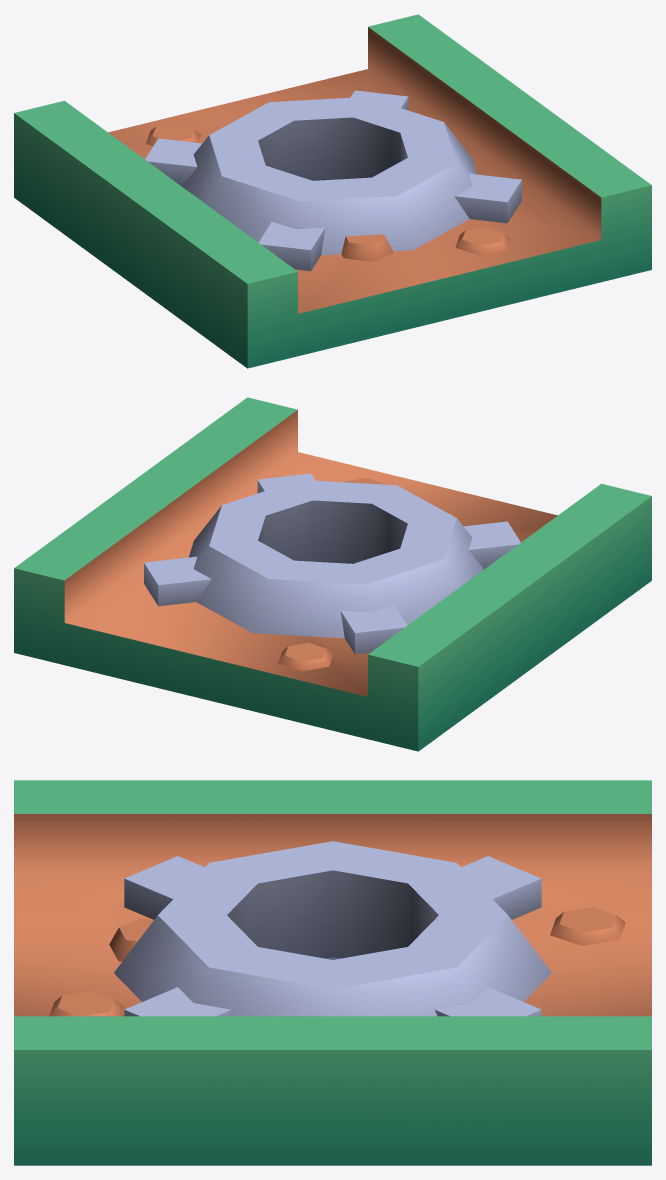
Rendered from kenney-tower-defense-tile-spawn-round.glb.
The picture shows the model from 3 angles, top to bottom: view 1: azimuth 30°, elevation 25°; view 2: azimuth 150°, elevation 25°; view 3: azimuth 270°, elevation 25°; orthographic projection. The views are drawn at different scales.
Visible parts, largest first — view 1: tile-spawn-round; view 2: tile-spawn-round; view 3: tile-spawn-round.
Boxes of the visible parts, left/top/right/bottom form: tile-spawn-round: left=14, top=14, right=651, bottom=368; tile-spawn-round: left=14, top=397, right=651, bottom=751; tile-spawn-round: left=14, top=780, right=651, bottom=1165.
Size of the model in its own units: 1 by 0.2 by 1.
1 material, 1 textured.
